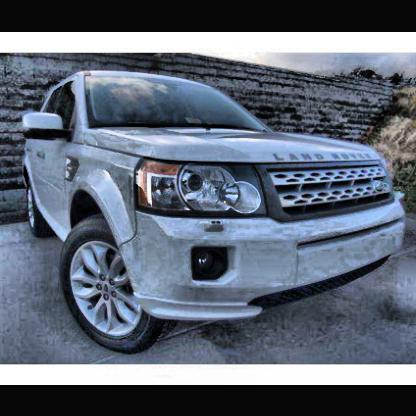Land Rover LR2 SUV 2012: (21, 73, 407, 356)
